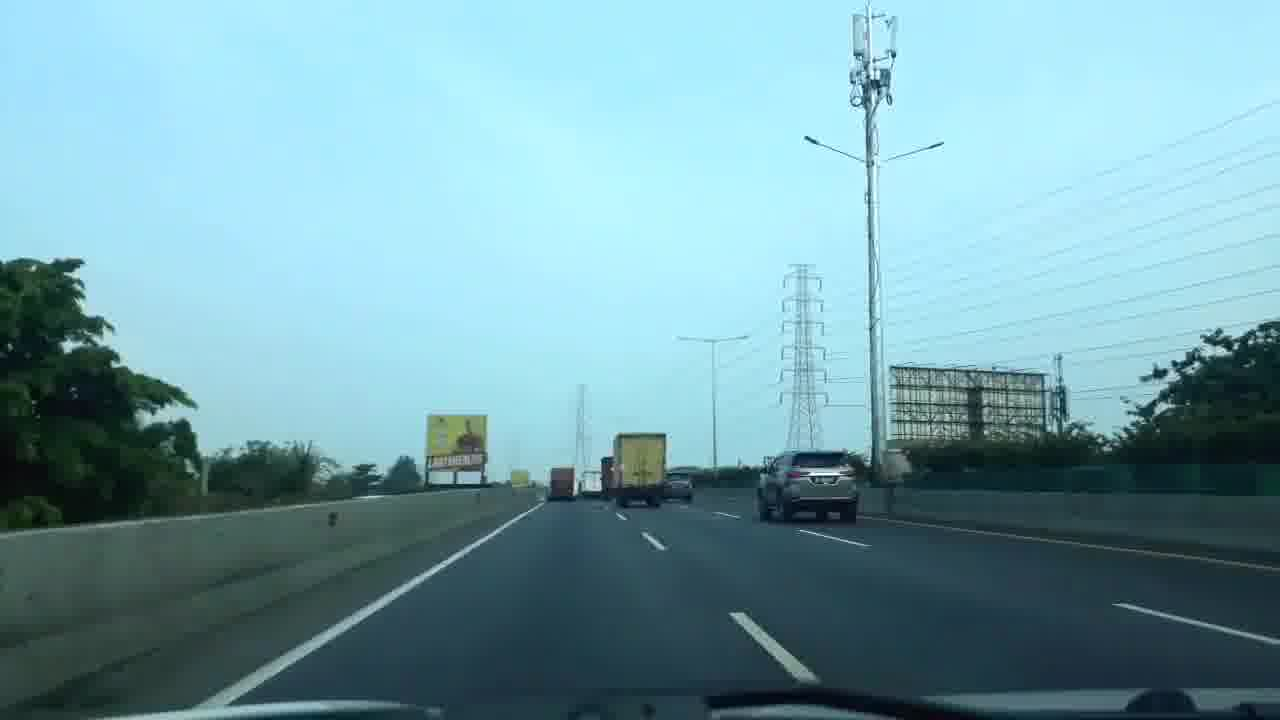plate_positive: (815, 477, 835, 484)
